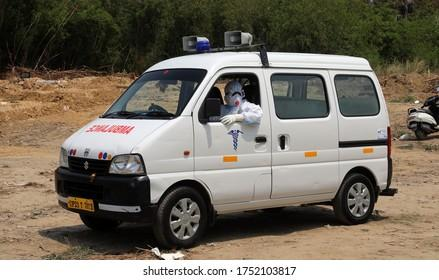ER: (56, 44, 393, 248)
